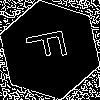F: (25, 25, 77, 64)
